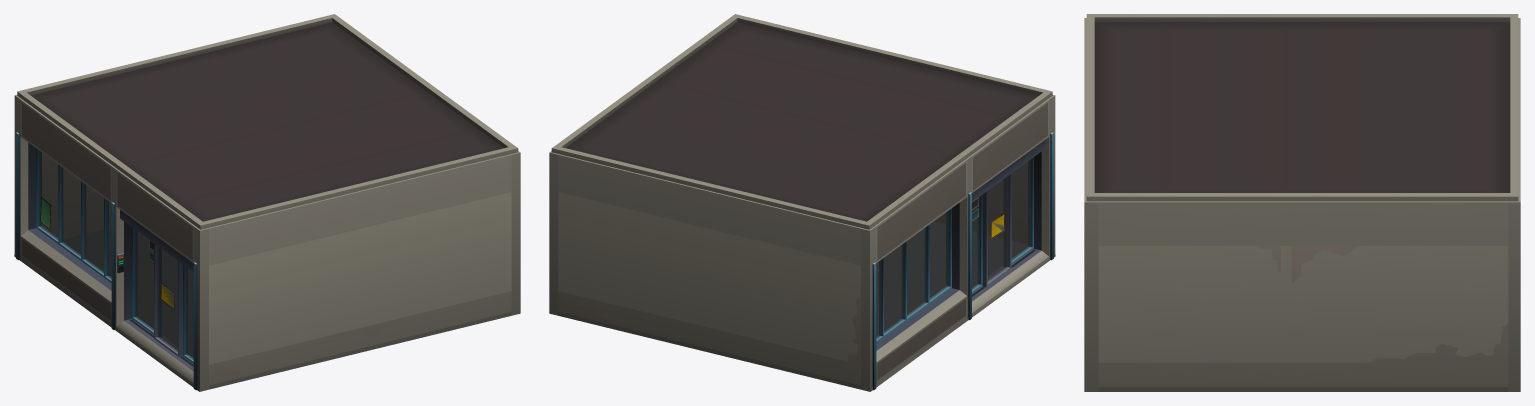
The model's file is TSP_Shop_01B.fbx.
3 views of the same model, side by side, from view 1: azimuth 30°, elevation 25°; view 2: azimuth 150°, elevation 25°; view 3: azimuth 270°, elevation 25° (orthographic). The views are drawn at different scales.
Parts seen in each view (by area): view 1: TSP_Shop_01B, TSP_Shop_01B_Door; view 2: TSP_Shop_01B, TSP_Shop_01B_Door; view 3: TSP_Shop_01B.
Part boxes in pixels (x1,y1,x2,y2): TSP_Shop_01B: [14, 14, 520, 391]; TSP_Shop_01B_Door: [154, 243, 182, 357]; TSP_Shop_01B: [549, 14, 1055, 391]; TSP_Shop_01B_Door: [982, 173, 1011, 286]; TSP_Shop_01B: [1084, 14, 1520, 391].
Size of the model in its own units: 8.16 by 4 by 8.13.
